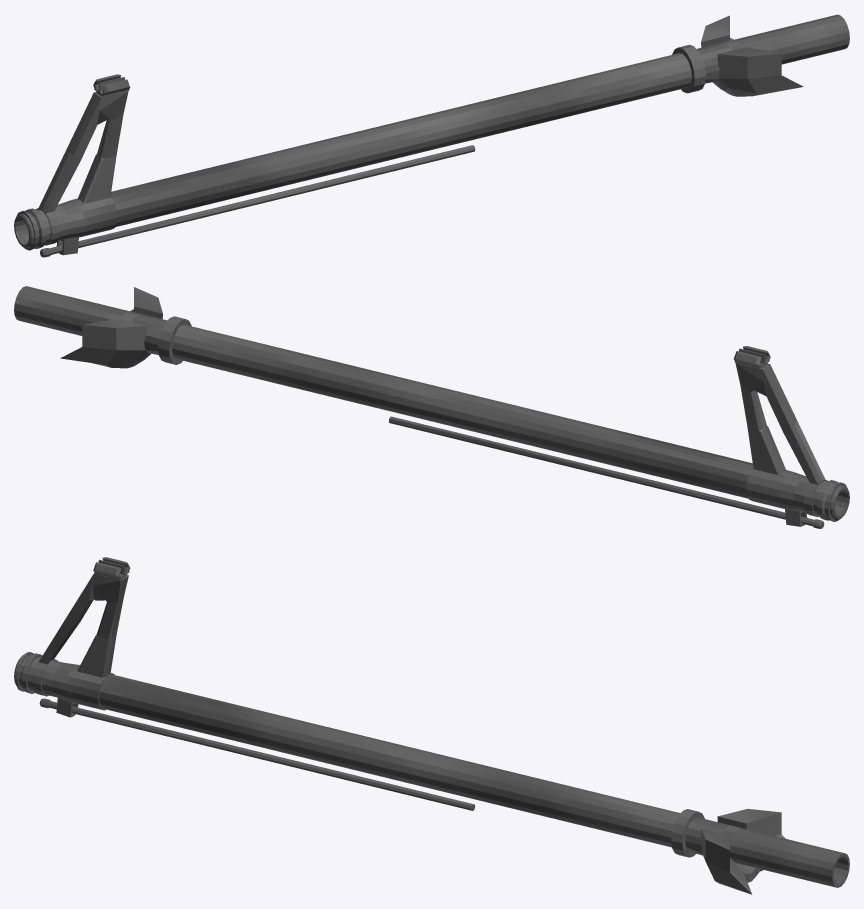
File: TheBarrel.fbx
The picture shows the model from 3 angles, top to bottom: view 1: azimuth 30°, elevation 25°; view 2: azimuth 150°, elevation 25°; view 3: azimuth 330°, elevation 25°; orthographic projection.
Parts seen in each view (by area): view 1: TheBarrel, Ramrod; view 2: TheBarrel, Ramrod; view 3: TheBarrel, Ramrod.
Boxes of the visible parts, x1,y1,x2,y2 form: TheBarrel: (14, 14, 849, 255); Ramrod: (40, 145, 475, 257); TheBarrel: (14, 286, 849, 526); Ramrod: (389, 416, 824, 528); TheBarrel: (14, 557, 849, 894); Ramrod: (39, 698, 475, 810).
Bounding box in the file's own units: 110 × 21.21 × 12.03.
